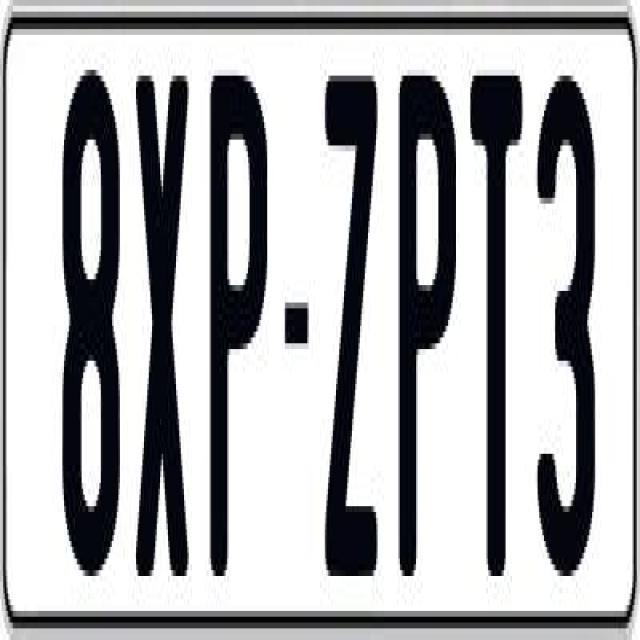3: (538, 64, 600, 594)
8: (58, 58, 116, 564)
P: (398, 70, 464, 576), (210, 64, 268, 576)
T: (469, 70, 528, 594)
X: (131, 70, 189, 600)
Z: (320, 58, 381, 564)
